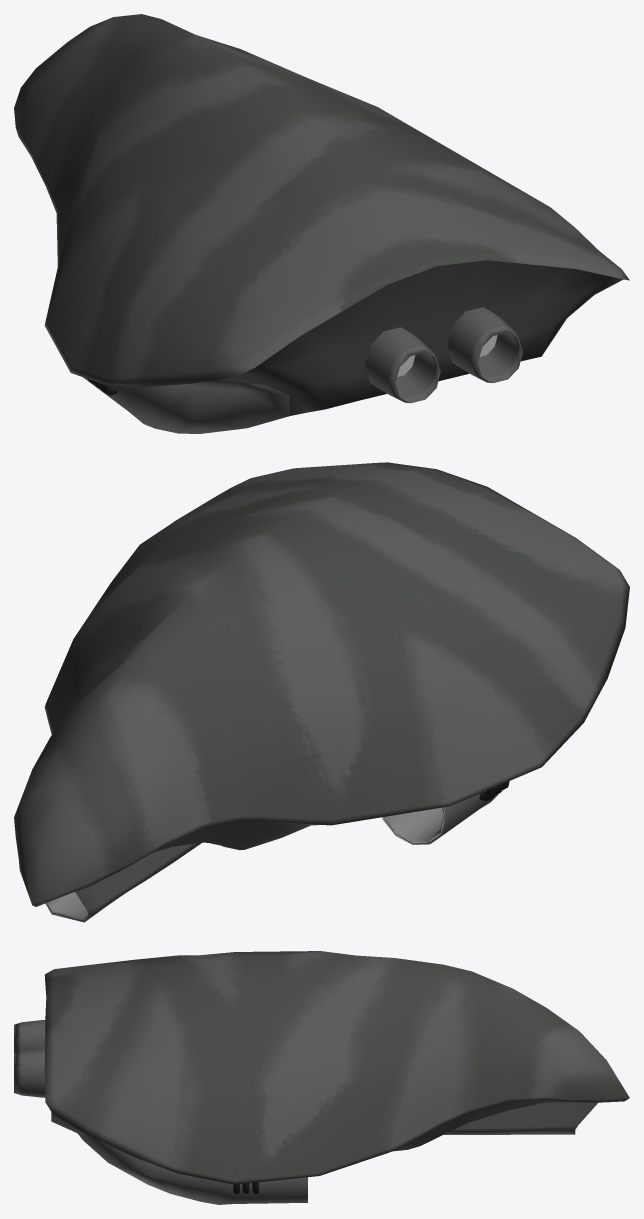
The model's file is SuicideDrone.fbx.
The picture shows the model from 3 angles, top to bottom: view 1: azimuth 30°, elevation 25°; view 2: azimuth 150°, elevation 25°; view 3: azimuth 270°, elevation 25°; orthographic projection. The views are drawn at different scales.
Parts seen in each view (by area): view 1: Body2, Turbo_Left, Turbo_Right; view 2: Body2, Air_Vent; view 3: Body2, Air_Vent, Turbo_Right, Turbo_Left.
Part boxes in pixels (bbox=[...]): Body2: bbox=[14, 14, 629, 433]; Turbo_Left: bbox=[365, 327, 440, 403]; Turbo_Right: bbox=[447, 307, 522, 382]; Body2: bbox=[14, 462, 629, 906]; Air_Vent: bbox=[45, 843, 201, 922]; Body2: bbox=[44, 951, 629, 1204]; Air_Vent: bbox=[443, 1102, 597, 1134]; Turbo_Right: bbox=[14, 1049, 45, 1097]; Turbo_Left: bbox=[14, 1020, 45, 1053].
Size of the model in its own units: 0.0574 by 0.0309 by 0.089.
Materials: 1 (1 with a texture image).
